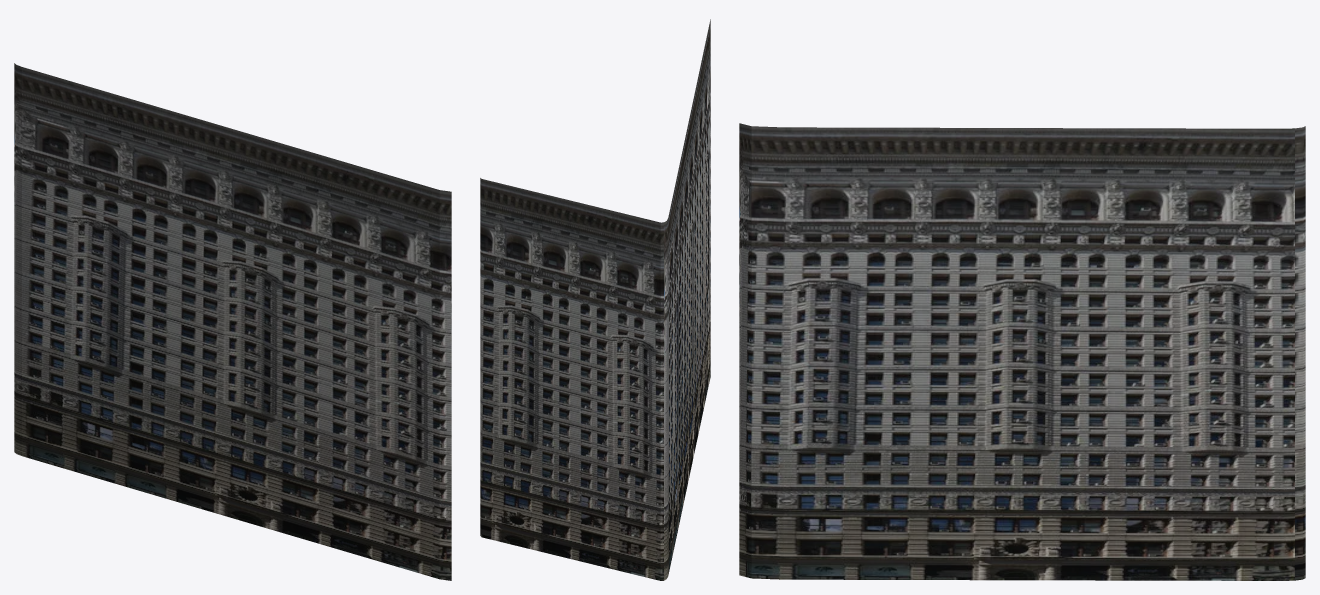
File: ny-flatiron.glb
3 views of the same model, side by side, from view 1: azimuth 30°, elevation 25°; view 2: azimuth 150°, elevation 25°; view 3: azimuth 270°, elevation 25° (orthographic). The views are drawn at different scales.
Parts seen in each view (by area): view 1: ny-flatiron; view 2: ny-flatiron; view 3: ny-flatiron.
Boxes of the visible parts, x1,y1,x2,y2 form: ny-flatiron: [14, 63, 451, 580]; ny-flatiron: [480, 19, 710, 580]; ny-flatiron: [739, 123, 1305, 580].
Size of the model in its own units: 50.73 by 93.49 by 106.
1 material, 1 textured.
